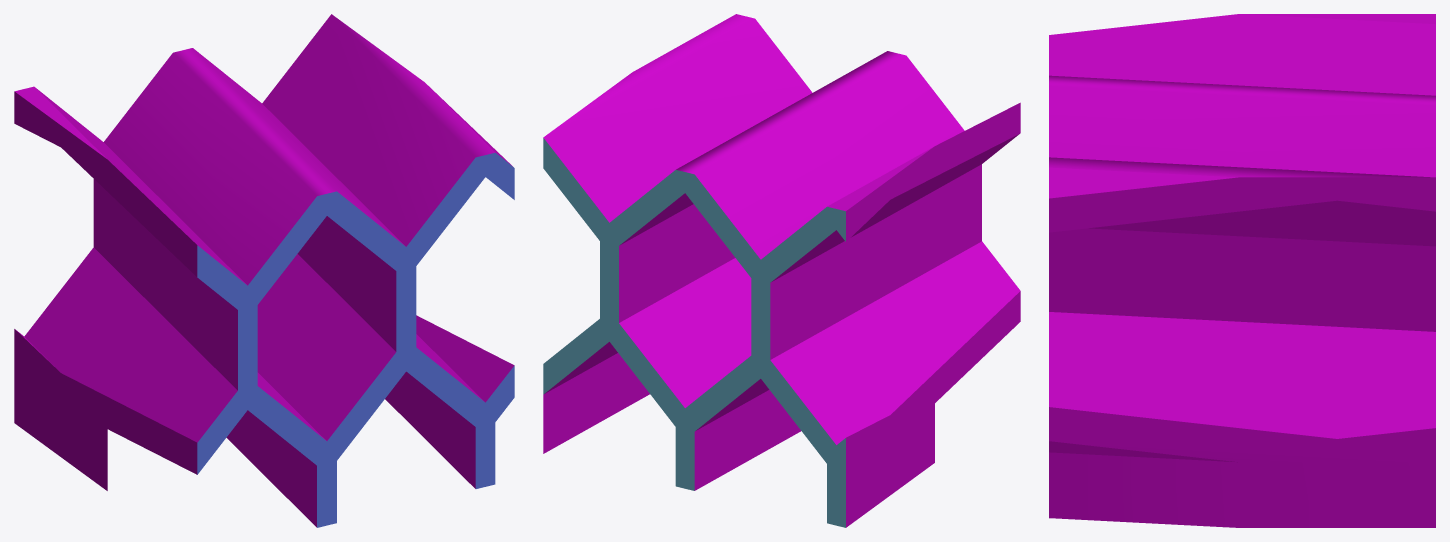
Rendered from br-m-fence-purple.fbx.
3 views of the same model, side by side, from view 1: azimuth 30°, elevation 25°; view 2: azimuth 150°, elevation 25°; view 3: azimuth 270°, elevation 25° (orthographic). The views are drawn at different scales.
Parts seen in each view (by area): view 1: pCube656; view 2: pCube656; view 3: pCube656.
Boxes of the visible parts, left/top/right/bottom form: pCube656: left=14, top=14, right=514, bottom=527; pCube656: left=543, top=14, right=1020, bottom=527; pCube656: left=1049, top=14, right=1435, bottom=527.
Size of the model in its own units: 1 by 1 by 1.
